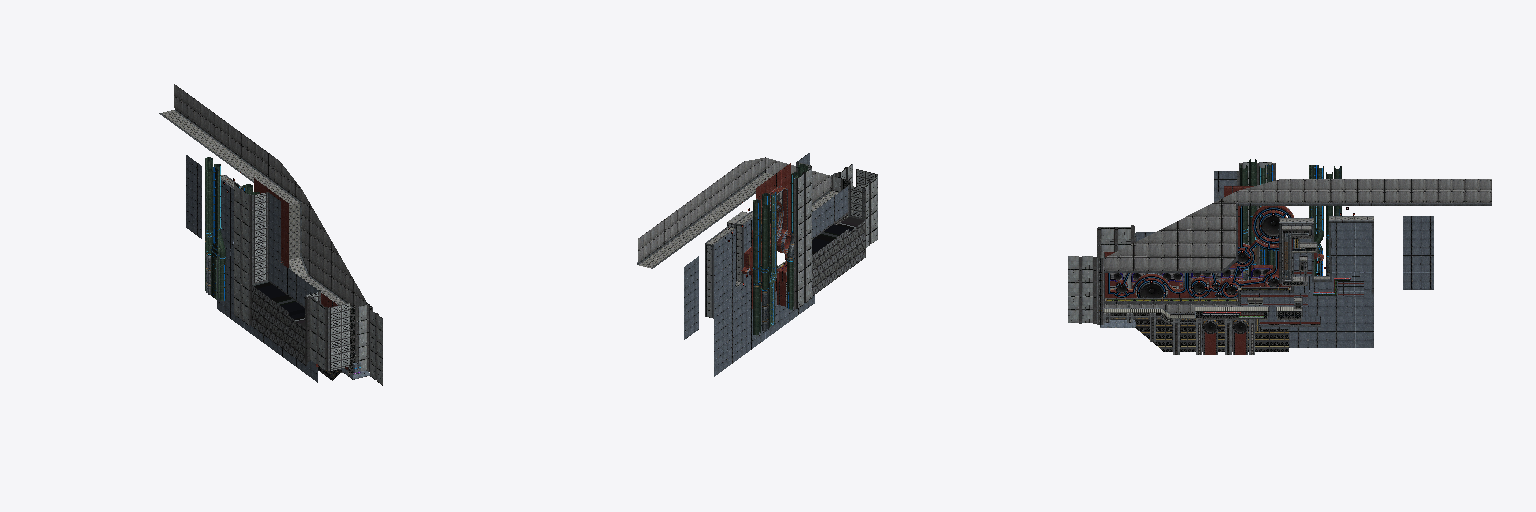
The picture shows the model from 3 angles: view 1: azimuth 30°, elevation 25°; view 2: azimuth 150°, elevation 25°; view 3: azimuth 270°, elevation 25°; orthographic projection.
Visible parts, largest first — view 1: polygon2, polygon51, polygon104, polygon50, polygon1, polygon16, polygon48, polygon49, polygon54, polygon28, polygon0, polygon52; view 2: polygon104, polygon2, polygon16, polygon51, polygon48, polygon1, polygon50, polygon49, polygon27, polygon28, polygon99, polygon98 (+1 smaller); view 3: polygon2, polygon104, polygon63, polygon16, polygon54, polygon3, polygon97, polygon51, polygon0, polygon27, polygon98, polygon7 (+9 smaller).
Boxes of the visible parts, x1,y1,x2,y2 form: polygon2: [174, 84, 367, 306]; polygon51: [234, 182, 327, 370]; polygon104: [186, 155, 317, 382]; polygon50: [253, 192, 349, 370]; polygon1: [161, 110, 357, 321]; polygon16: [205, 157, 259, 300]; polygon48: [252, 285, 304, 364]; polygon49: [269, 193, 318, 305]; polygon54: [356, 304, 382, 385]; polygon28: [254, 178, 348, 370]; polygon0: [159, 109, 354, 322]; polygon52: [252, 192, 329, 370]; polygon104: [684, 219, 814, 376]; polygon2: [638, 157, 831, 262]; polygon16: [753, 164, 807, 335]; polygon51: [794, 166, 877, 309]; polygon48: [812, 221, 864, 296]; polygon1: [639, 173, 838, 267]; polygon50: [798, 162, 875, 254]; polygon49: [798, 153, 847, 237]; polygon27: [741, 185, 790, 277]; polygon28: [746, 163, 790, 308]; polygon99: [707, 226, 741, 317]; polygon98: [705, 211, 752, 318]; polygon2: [1104, 179, 1491, 270]; polygon104: [1260, 216, 1433, 347]; polygon63: [1110, 311, 1288, 351]; polygon16: [1240, 159, 1341, 279]; polygon54: [1068, 253, 1104, 323]; polygon3: [1108, 206, 1290, 297]; polygon97: [1290, 239, 1363, 324]; polygon51: [1098, 162, 1275, 289]; polygon0: [1104, 203, 1491, 272]; polygon27: [1110, 206, 1323, 297]; polygon98: [1279, 216, 1373, 293]; polygon7: [1104, 313, 1254, 354].
Bounding box in the file's own units: 288 × 949 × 2057.
27 materials, 26 textured.